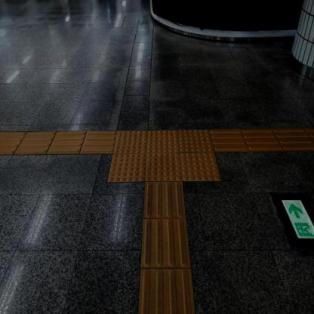Podoctatil: (96, 111, 236, 205), (140, 184, 194, 313), (0, 129, 112, 155), (217, 128, 314, 154)
